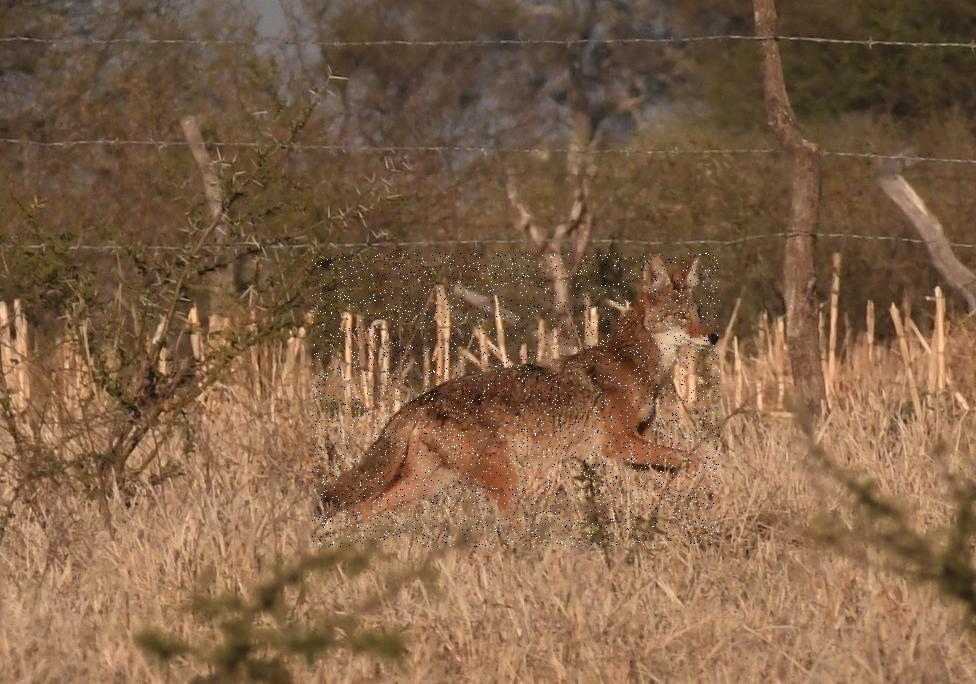Coyote: (312, 253, 720, 547)
